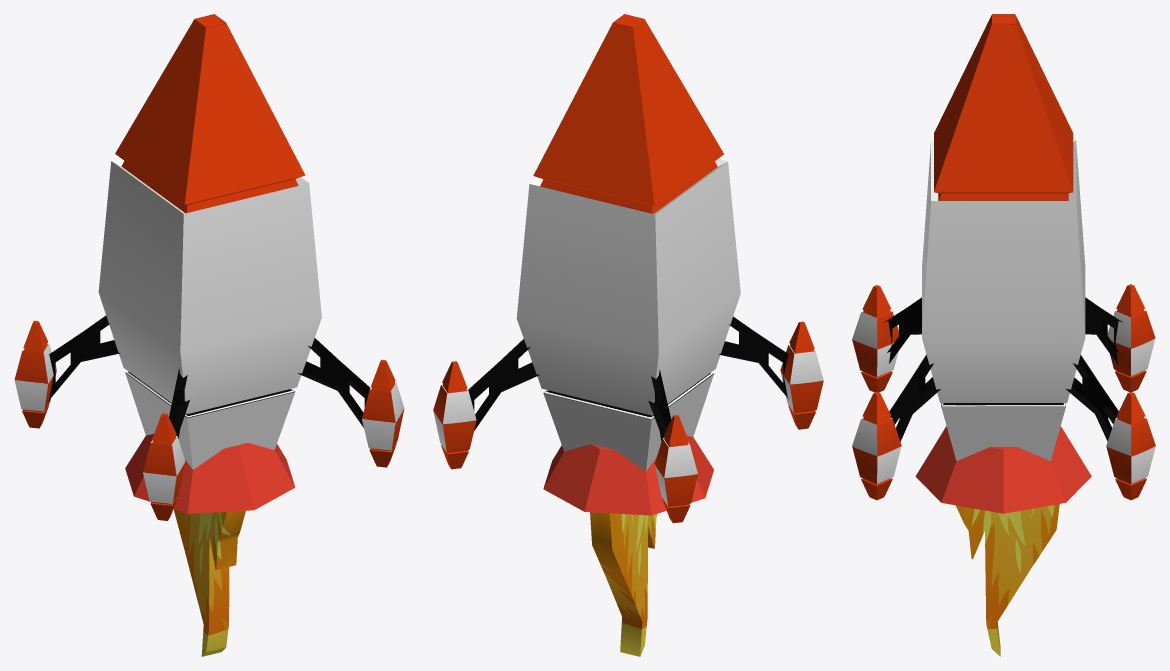
File: cohete.fbx
The picture shows the model from 3 angles, left to right: view 1: azimuth 30°, elevation 25°; view 2: azimuth 150°, elevation 25°; view 3: azimuth 270°, elevation 25°; orthographic projection.
Visible parts, largest first — view 1: polySurface1, pPipe1, pCube4, pCube3, pasted__pCube3, pasted__pCube4, pCube5, pCube7, pCube2; view 2: polySurface1, pPipe1, pCube4, pasted__pCube5, pasted__pCube4, pCube3, pCube6, pCube2, pCube7; view 3: polySurface1, pPipe1, pCube4, pasted__pCube3, pasted__pCube5, pCube3, pasted__pCube4, pCube6, pCube5, pCube7, pCube2.
Boxes of the visible parts, x1,y1,x2,y2 form: polySurface1: (98, 14, 321, 469); pPipe1: (125, 434, 295, 513); pCube4: (174, 509, 245, 656); pCube3: (143, 413, 185, 520); pasted__pCube3: (362, 359, 404, 467); pasted__pCube4: (14, 320, 56, 428); pCube5: (297, 338, 370, 427); pCube7: (48, 315, 120, 401); pCube2: (169, 368, 189, 438); polySurface1: (516, 14, 740, 471); pPipe1: (543, 435, 713, 515); pCube4: (590, 512, 657, 656); pasted__pCube5: (433, 361, 476, 469); pasted__pCube4: (654, 415, 697, 523); pCube3: (780, 321, 823, 429); pCube6: (468, 339, 539, 430); pCube2: (718, 316, 788, 398); pCube7: (648, 369, 671, 441); polySurface1: (922, 14, 1085, 461); pPipe1: (915, 426, 1091, 513); pCube4: (955, 504, 1059, 656); pasted__pCube3: (852, 392, 901, 500); pasted__pCube5: (1106, 392, 1155, 500); pCube3: (852, 285, 898, 392); pasted__pCube4: (1107, 284, 1155, 392); pCube6: (1065, 355, 1118, 441); pCube5: (889, 354, 940, 441); pCube7: (1085, 297, 1123, 365); pCube2: (883, 297, 921, 363).
Size of the model in its own units: 2.35 by 5.4 by 2.35.
